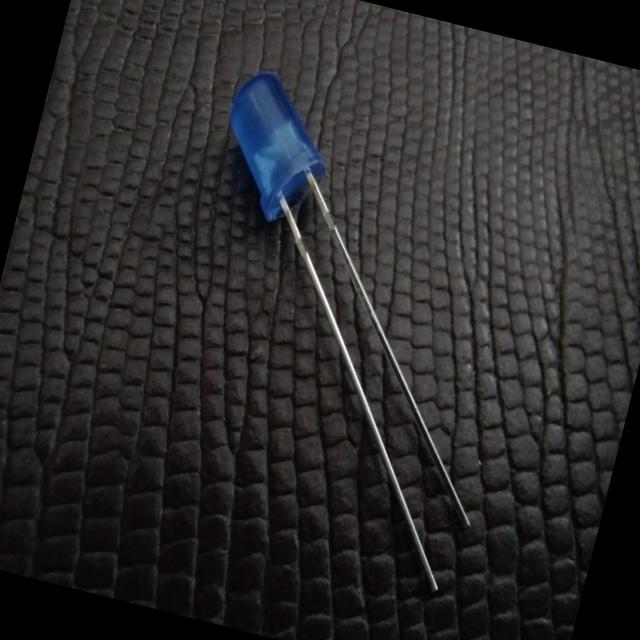blue_led: (204, 61, 347, 233)
